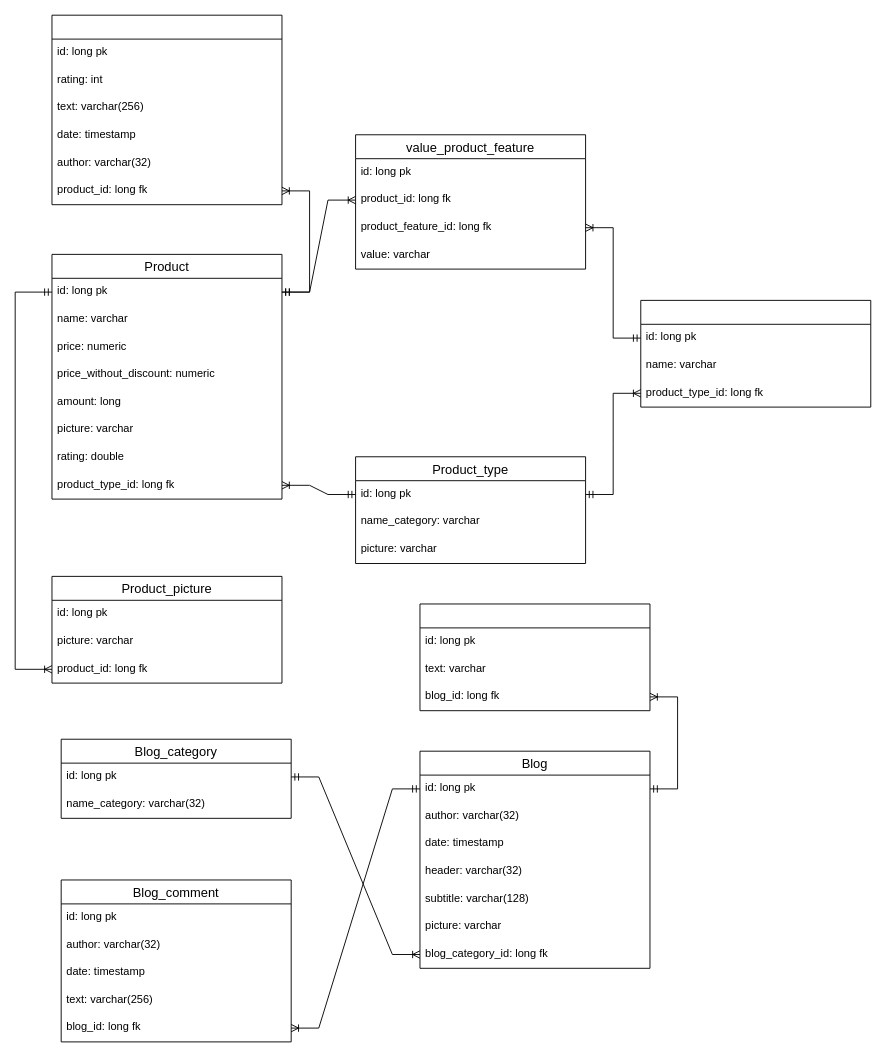
Image size: 886x1057. Some labels were removed from this diagram. The shapes that lost their labels are listed below. From the top down, each one's box as (x1, y1, x2, y2) in pixels, then its label:
(51, 14, 282, 205): Product_comment
(640, 299, 871, 407): Product_feature
(419, 603, 650, 711): Blog_details
